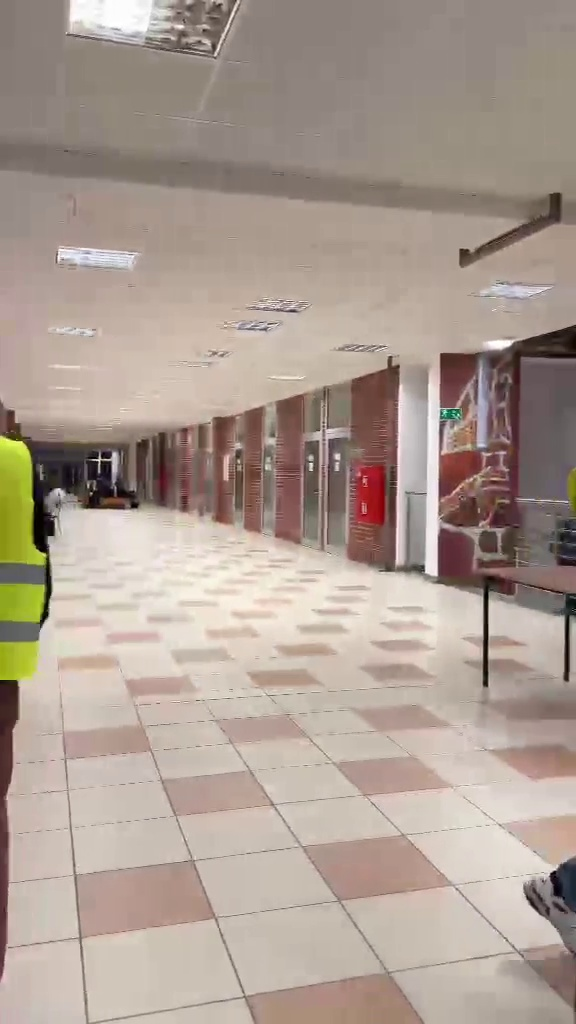vest: (0, 412, 49, 975)
